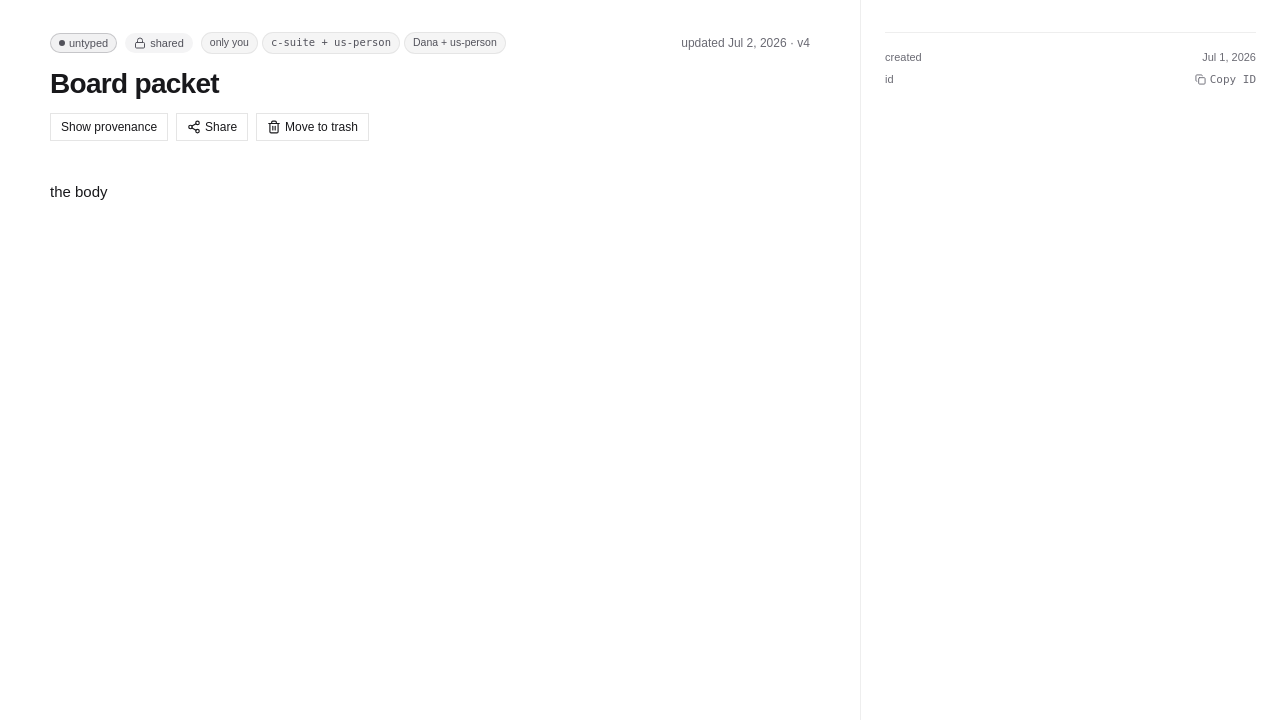
Test case: <ObjectView /> share sheet › 'Make private again' resets the audience with one click
expect the text box "the body" is shown: met, box x1=50 y1=183 x2=108 y2=200
Click the button "Share": (212, 127) x1=176 y1=113 x2=248 y2=141
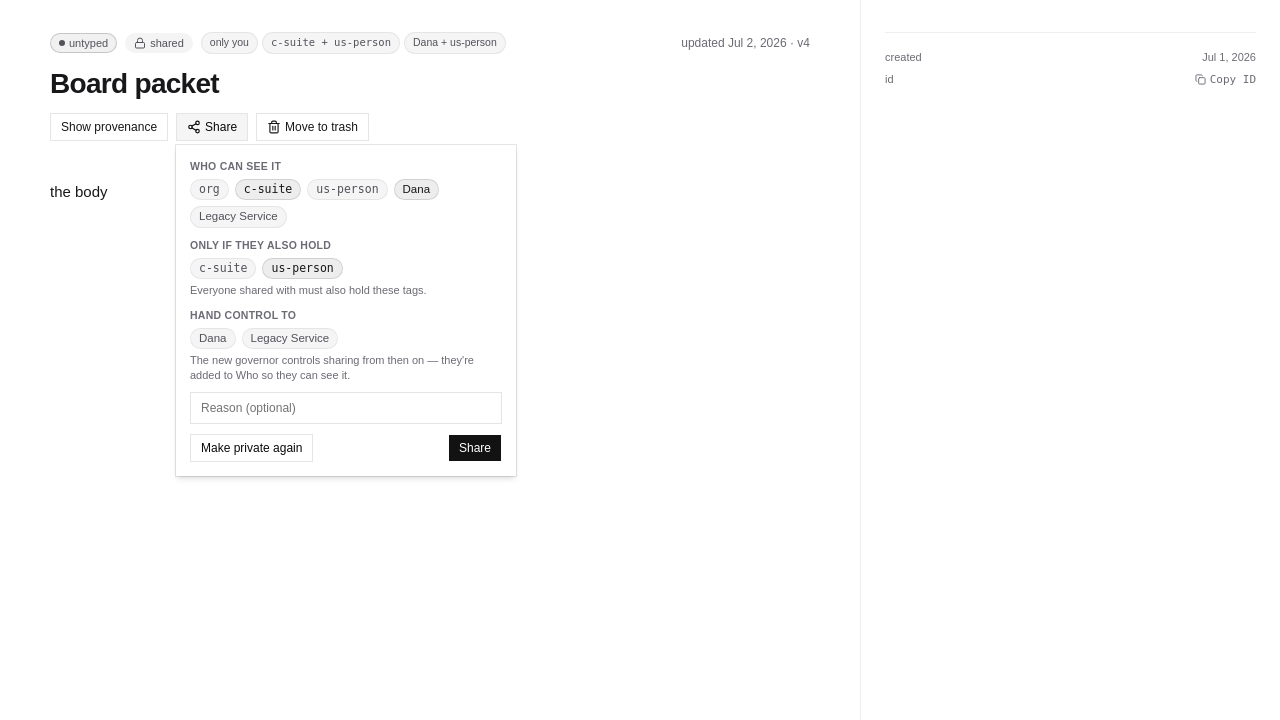
expect the element named "Who" is shown: met, box x1=190 y1=179 x2=439 y2=228
Click the button "Make private again": (252, 448) x1=190 y1=434 x2=313 y2=462
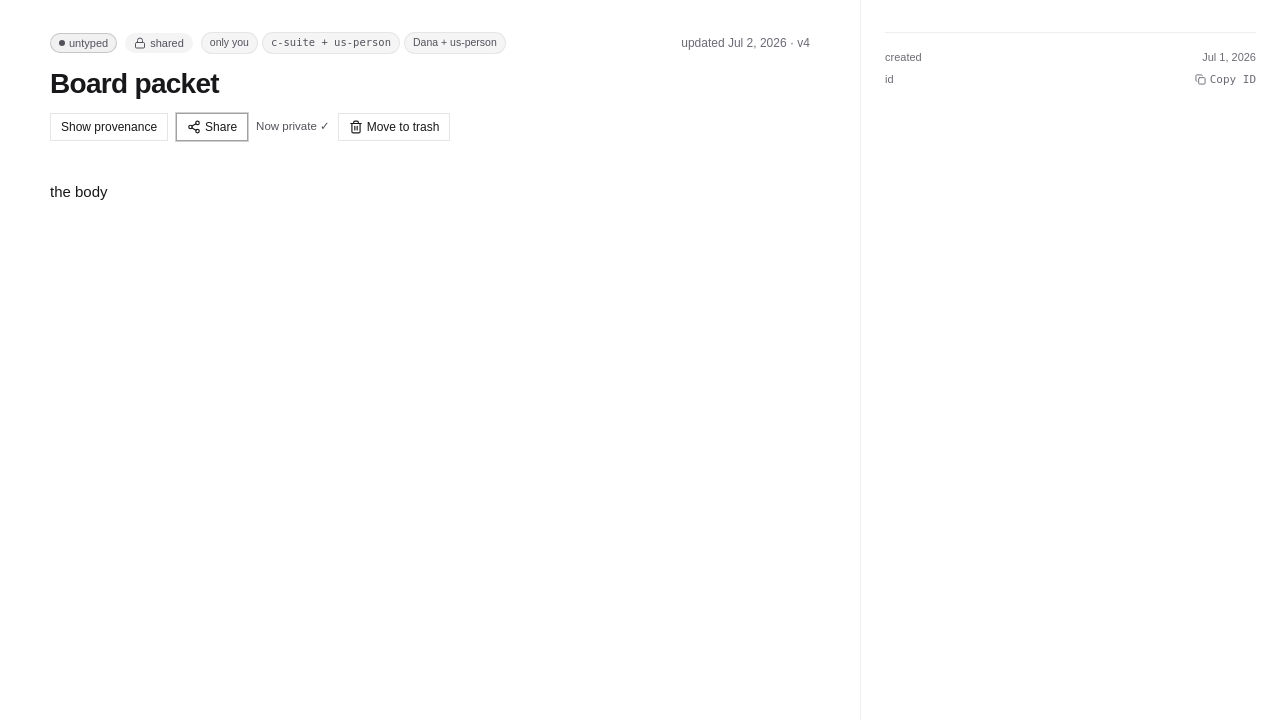
expect the text "Now private ✓" is shown: met, box x1=256 y1=118 x2=330 y2=135
